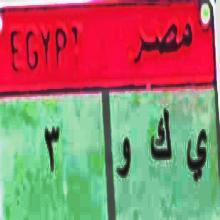3: (41, 118, 63, 184)
kaaf: (148, 106, 174, 178)
waw: (113, 127, 135, 193)
yaa: (185, 118, 210, 188)
